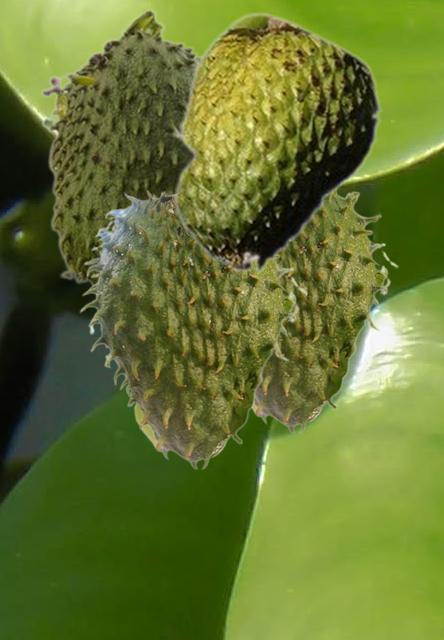guyabano: (79, 189, 307, 469), (170, 11, 381, 275), (41, 8, 200, 285), (252, 190, 398, 433)
